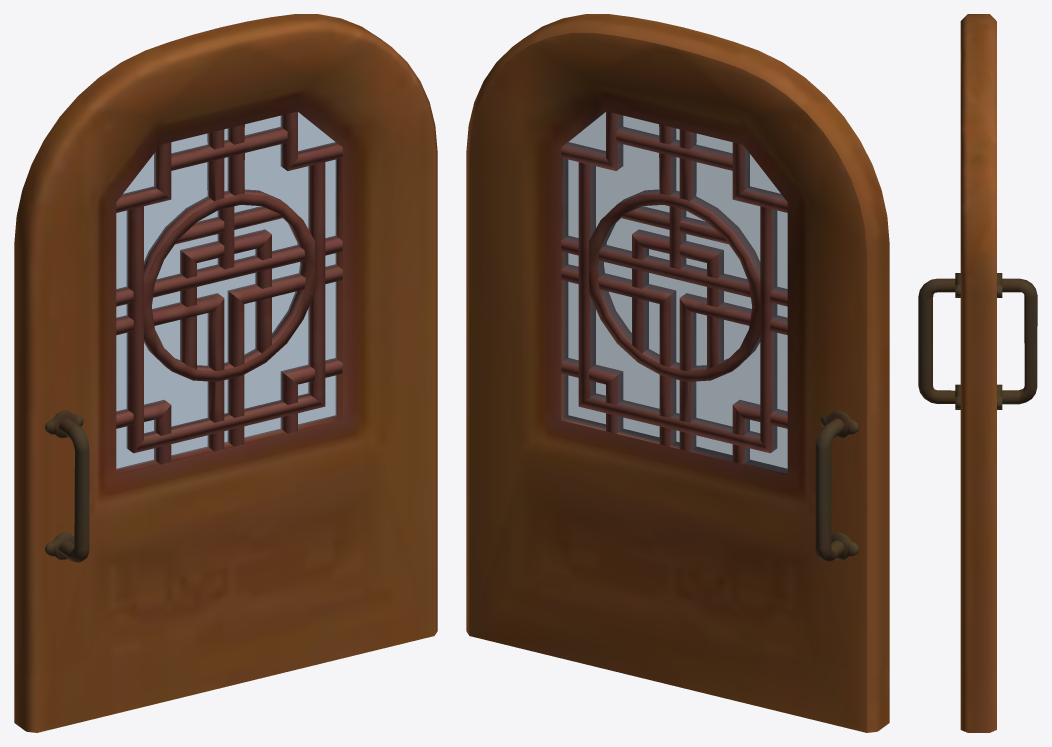
File: door-chinese-r.glb
3 renders of one model, left to right at view 1: azimuth 30°, elevation 25°; view 2: azimuth 150°, elevation 25°; view 3: azimuth 270°, elevation 25°, orthographic. The views are drawn at different scales.
Bounding box in the file's own units: 12 × 18 × 3.29.
2 materials, 1 textured.
